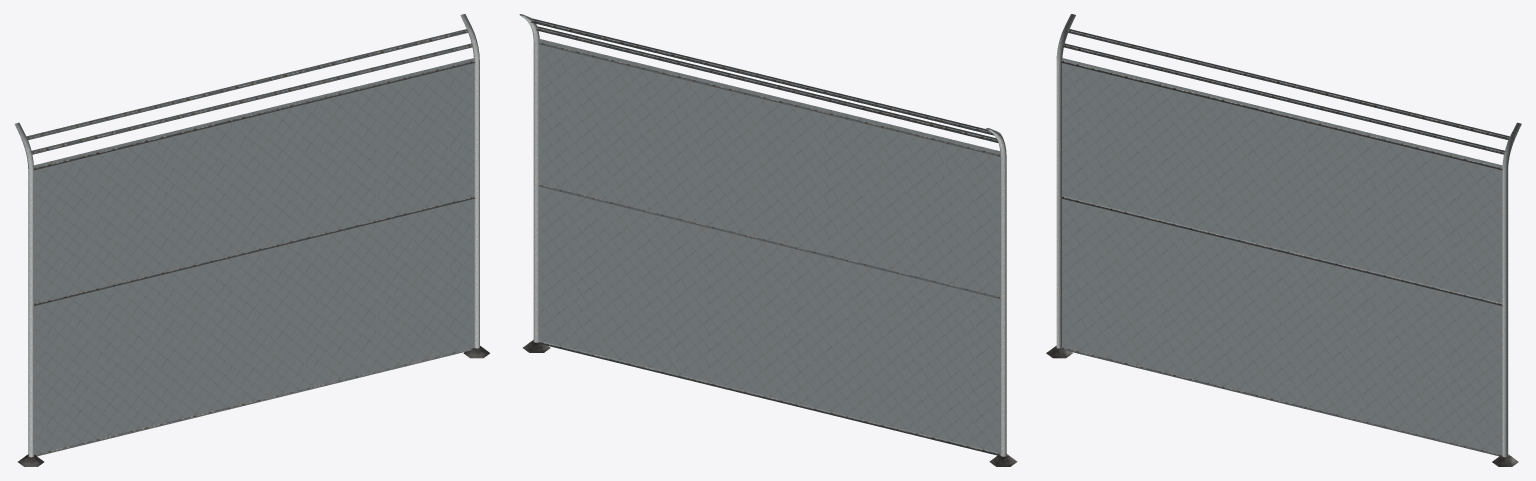
The model's file is fence.obj.
3 views of the same model, side by side, from view 1: azimuth 30°, elevation 25°; view 2: azimuth 150°, elevation 25°; view 3: azimuth 330°, elevation 25° (orthographic). The views are drawn at different scales.
Visible parts, largest first — view 1: chainlink_fence; view 2: chainlink_fence; view 3: chainlink_fence.
Boxes of the visible parts, box(x1,y1,x2,y2) form: chainlink_fence: box(14, 14, 489, 466); chainlink_fence: box(519, 14, 1017, 466); chainlink_fence: box(1046, 14, 1521, 466).
Bounding box in the file's own units: 10.08 × 6.79 × 0.7912.
